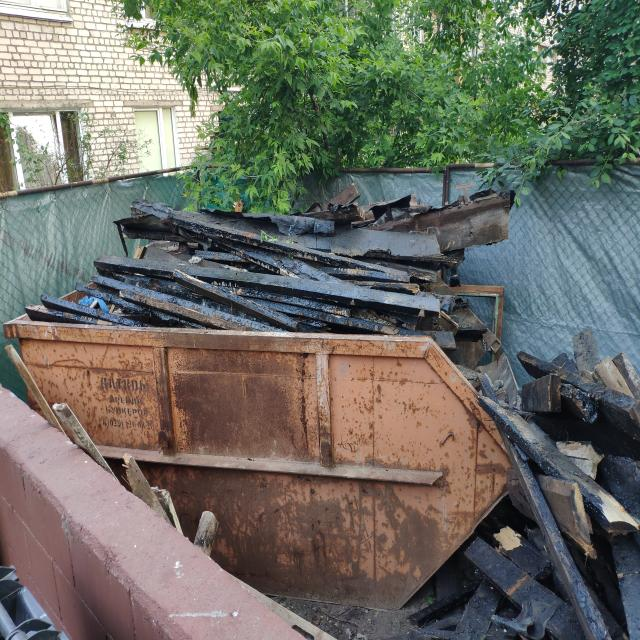entulho: (449, 331, 640, 640), (103, 206, 471, 332), (32, 295, 140, 325), (420, 590, 470, 628)
